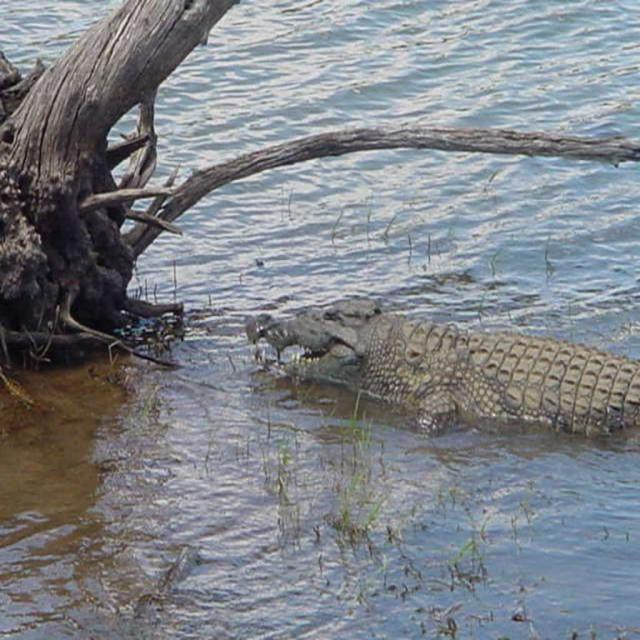crocodile: (245, 300, 640, 430)
